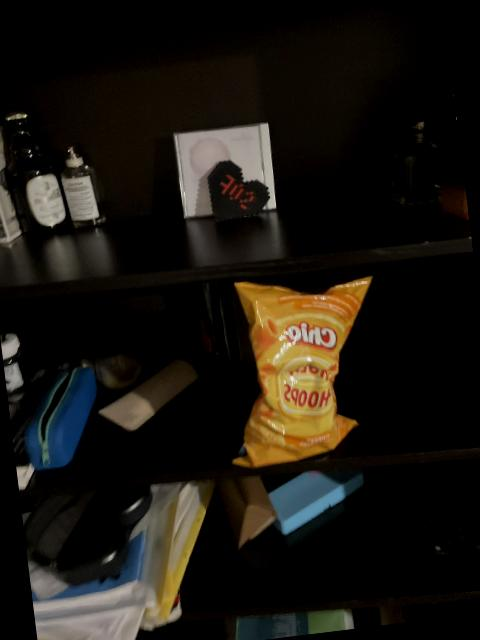Chio Hula Hoops Cheese 70g: (212, 271, 396, 470)
